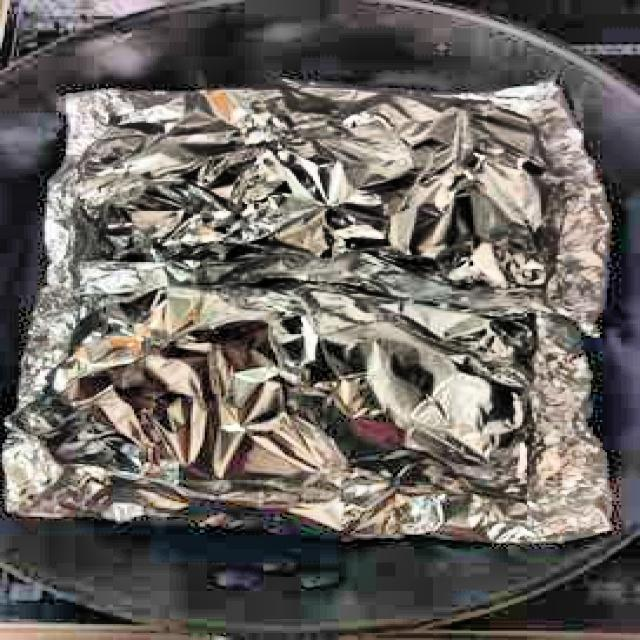Foil: (0, 80, 640, 546)
